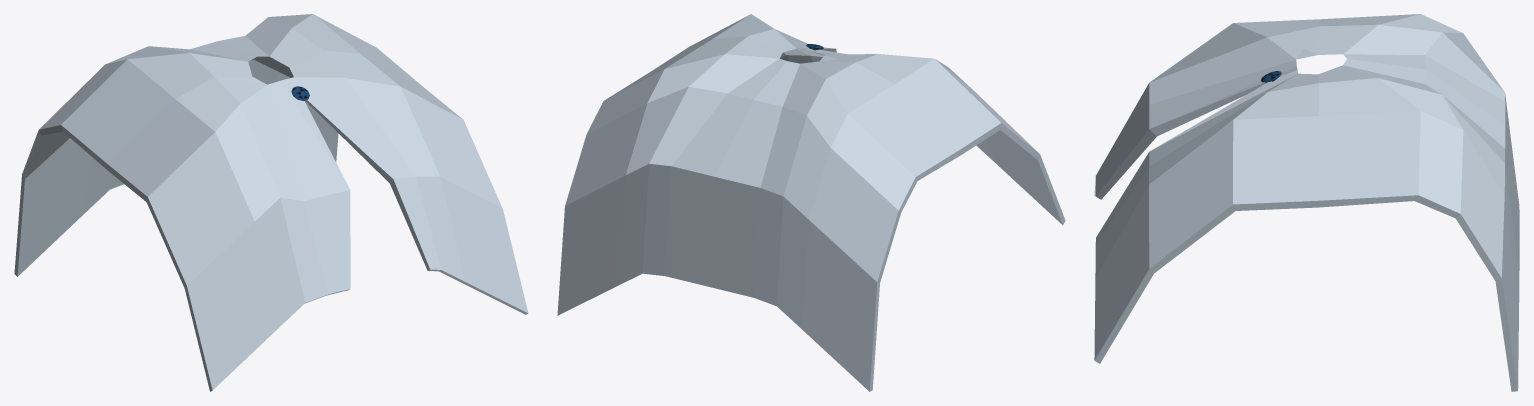
Rendered from Capa dante.fbx.
The picture shows the model from 3 angles, left to right: view 1: azimuth 30°, elevation 25°; view 2: azimuth 150°, elevation 25°; view 3: azimuth 270°, elevation 25°; orthographic projection. The views are drawn at different scales.
Parts seen in each view (by area): view 1: Manto; view 2: Manto; view 3: Manto.
Part boxes in pixels (box(x1,y1,x2,y2)): Manto: box(14, 14, 528, 391); Manto: box(557, 14, 1065, 391); Manto: box(1094, 14, 1519, 391).
Bounding box in the file's own units: 1.31 × 0.9543 × 1.42.
